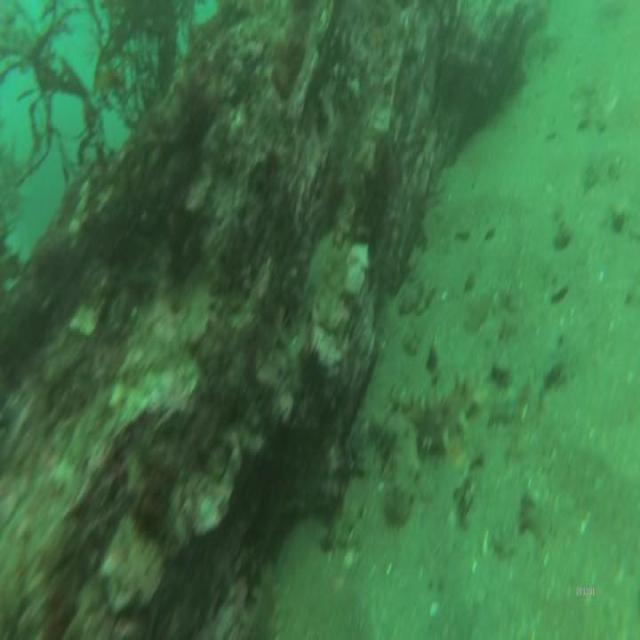holothurian: (388, 376, 484, 463), (372, 411, 422, 525)
waterweeds: (0, 2, 204, 180)
